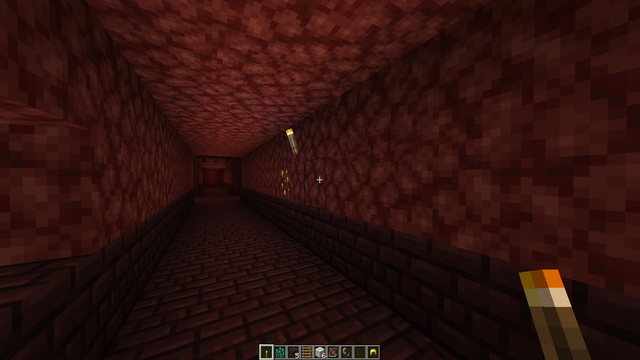nethergold: (277, 166, 295, 200)
